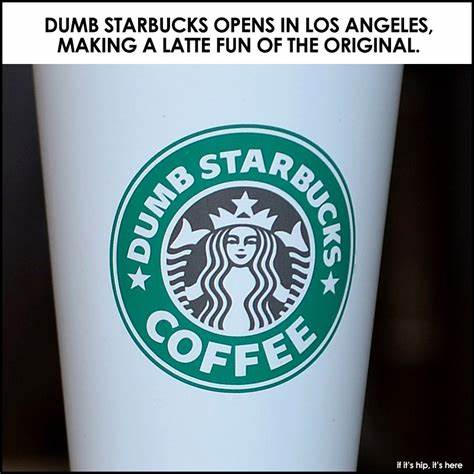starbucks Fake: (100, 117, 361, 401)
